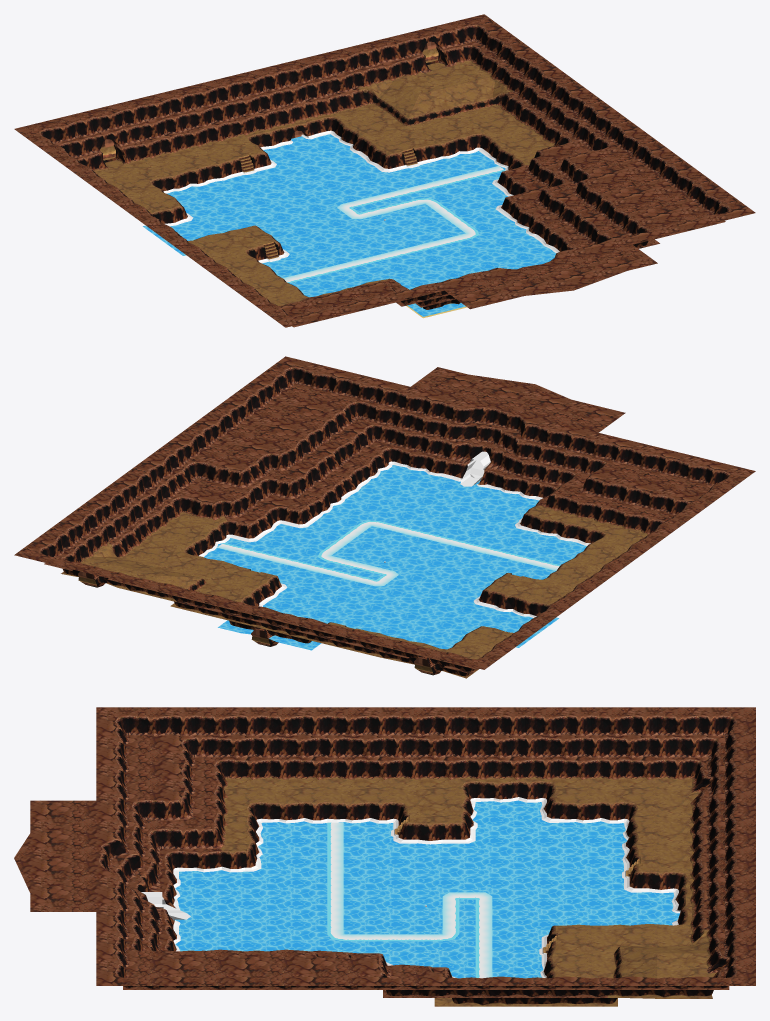
Rendered from Entrance Room (High Tide).glb.
3 views of the same model, one above another, from view 1: azimuth 30°, elevation 25°; view 2: azimuth 150°, elevation 25°; view 3: azimuth 270°, elevation 25° (orthographic). The views are drawn at different scales.
Parts seen in each view (by area): view 1: gake01_0_0_node, gake01_1_0_node, polySurface187_4_0_node-UV1, gake01_2_0_node, polySurface183_6_0_node, polySurface194_7_0_node; view 2: gake01_0_0_node, gake01_1_0_node, polySurface187_4_0_node-UV1, gake01_2_0_node, polySurface183_6_0_node, polySurface194_7_0_node, polySurface31_5_0_node; view 3: gake01_0_0_node, gake01_1_0_node, polySurface187_4_0_node-UV1, gake01_2_0_node, polySurface183_6_0_node, polySurface194_7_0_node.
Part boxes in pixels (x1,y1,x2,y2): gake01_0_0_node: (39,24,730,321); gake01_1_0_node: (14,14,755,327); polySurface187_4_0_node-UV1: (143,134,555,316); gake01_2_0_node: (95,61,554,305); polySurface183_6_0_node: (283,166,505,282); polySurface194_7_0_node: (163,130,559,263); gake01_0_0_node: (38,366,731,676); gake01_1_0_node: (14,356,755,673); polySurface187_4_0_node-UV1: (204,465,586,650); gake01_2_0_node: (61,505,647,678); polySurface183_6_0_node: (217,520,560,586); polySurface194_7_0_node: (199,461,590,617); polySurface31_5_0_node: (460,451,490,486); gake01_0_0_node: (98,715,737,1005); gake01_1_0_node: (14,707,755,997); polySurface187_4_0_node-UV1: (173,800,679,978); gake01_2_0_node: (221,777,716,1006); polySurface183_6_0_node: (327,822,492,978); polySurface194_7_0_node: (173,797,680,977).
Size of the model in its own units: 720 by 90 by 810.
10 materials, 9 textured.
